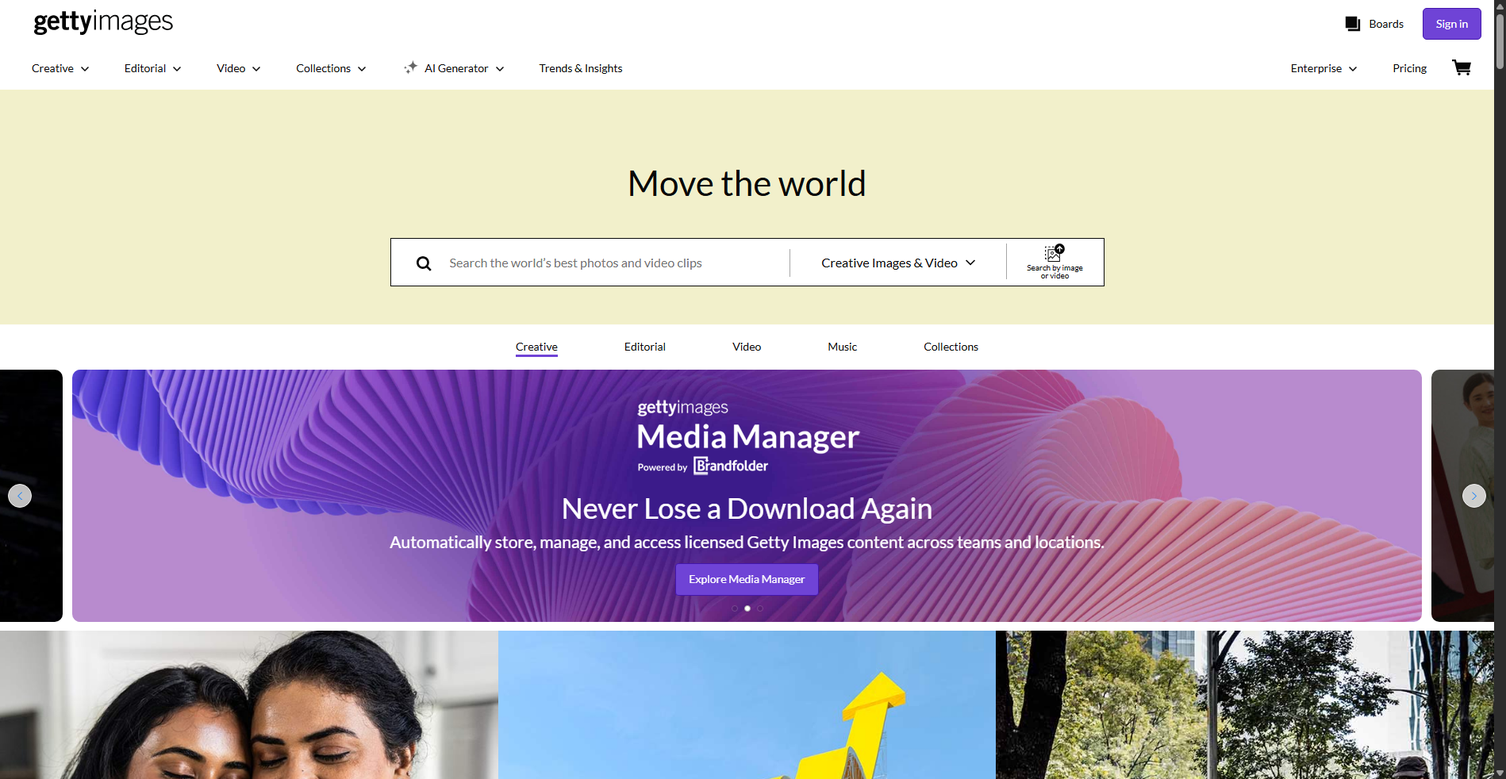general_button: (789, 249, 1007, 277), (809, 298, 980, 326), (809, 342, 980, 370), (809, 442, 980, 470), (821, 370, 980, 398), (821, 398, 980, 426), (821, 470, 980, 498), (821, 498, 980, 526), (1333, 10, 1416, 38), (1144, 179, 1203, 211), (1157, 179, 1216, 211), (1256, 179, 1315, 211), (1014, 179, 1072, 211), (1405, 179, 1463, 211), (8, 484, 32, 508), (1462, 484, 1486, 508), (731, 606, 738, 612), (744, 606, 750, 612), (757, 606, 763, 612)
general_image: (72, 369, 1422, 622), (1431, 369, 1506, 622), (0, 369, 63, 622), (34, 7, 173, 38), (279, 115, 426, 132)
general_input: (444, 249, 789, 275)
general_label: (809, 298, 969, 326), (821, 370, 893, 398), (821, 470, 893, 498), (821, 398, 892, 426), (821, 498, 892, 526), (809, 342, 872, 370), (809, 442, 866, 470)
general_link: (0, 630, 498, 779), (498, 630, 996, 779), (996, 630, 1494, 779), (279, 181, 1481, 209), (279, 176, 1481, 203), (279, 209, 1481, 223), (279, 229, 1481, 243), (1014, 179, 1208, 213), (279, 207, 495, 234), (279, 194, 495, 221), (1160, 140, 1326, 173), (1090, 179, 1249, 213), (638, 144, 797, 177), (1014, 179, 1151, 213), (34, 7, 173, 40), (657, 140, 795, 173), (680, 558, 814, 590), (1014, 179, 1138, 213), (1104, 140, 1230, 173), (1103, 140, 1228, 173), (1308, 140, 1433, 173), (1215, 179, 1336, 213), (521, 144, 642, 177), (521, 183, 632, 217), (611, 144, 723, 177), (389, 55, 520, 83), (1014, 179, 1120, 213), (1126, 179, 1229, 213), (597, 183, 698, 217), (1218, 140, 1322, 173), (1305, 140, 1408, 173), (1014, 140, 1117, 173), (605, 144, 706, 177), (1014, 140, 1115, 173), (799, 144, 899, 177), (848, 144, 947, 177), (861, 144, 960, 177), (693, 144, 792, 177), (729, 144, 828, 177), (1201, 140, 1298, 173), (715, 144, 810, 177), (675, 144, 770, 177), (1014, 179, 1106, 213), (892, 144, 986, 177), (1014, 140, 1108, 173), (1112, 179, 1202, 213), (705, 144, 797, 177), (1355, 140, 1447, 173), (279, 240, 495, 254), (527, 55, 635, 83), (609, 144, 699, 177), (579, 144, 669, 177), (752, 144, 841, 177), (1123, 140, 1211, 173), (521, 144, 608, 177), (1092, 140, 1179, 173), (1328, 140, 1415, 173), (1264, 140, 1349, 173), (521, 183, 603, 217), (584, 144, 668, 177), (1014, 140, 1098, 173), (1080, 140, 1164, 173), (521, 144, 605, 177), (649, 144, 733, 177), (284, 55, 383, 83), (834, 144, 917, 177), (866, 144, 949, 177), (1014, 140, 1096, 173), (797, 144, 879, 177), (521, 144, 603, 177), (1278, 55, 1374, 83), (779, 144, 859, 177), (1014, 179, 1091, 213), (1014, 140, 1093, 173), (521, 144, 598, 177), (816, 144, 892, 177), (521, 144, 596, 177), (1207, 140, 1281, 173), (1090, 140, 1163, 173), (614, 144, 687, 177), (1185, 140, 1258, 173), (19, 55, 105, 83), (112, 55, 198, 83), (1225, 140, 1297, 173), (1014, 140, 1086, 173), (1122, 140, 1194, 173), (1014, 179, 1083, 213), (521, 183, 590, 217), (1306, 140, 1376, 173), (1014, 140, 1084, 173), (899, 144, 966, 177), (1300, 140, 1367, 173), (1235, 140, 1300, 173), (1236, 140, 1301, 173), (727, 144, 791, 177), (586, 140, 650, 173), (602, 144, 665, 177), (854, 144, 917, 177), (823, 144, 886, 177), (1341, 140, 1403, 173), (204, 55, 277, 83), (521, 183, 581, 217), (1233, 140, 1294, 173), (1115, 140, 1176, 173), (906, 144, 967, 177), (1344, 140, 1405, 173), (1140, 140, 1200, 173), (1014, 140, 1073, 173), (713, 144, 772, 177), (521, 140, 580, 173), (1342, 179, 1398, 213), (1170, 140, 1227, 173), (1076, 140, 1133, 173), (1423, 8, 1481, 40), (521, 144, 577, 177), (1014, 140, 1070, 173), (521, 144, 575, 177), (1382, 140, 1435, 173), (1373, 140, 1426, 173), (1100, 140, 1153, 173), (693, 144, 745, 177), (803, 144, 855, 177), (521, 144, 573, 177), (581, 144, 632, 177), (1303, 140, 1354, 173), (801, 140, 852, 173), (1380, 55, 1439, 83), (1169, 140, 1219, 173), (1287, 140, 1337, 173), (1234, 140, 1283, 173), (912, 140, 961, 173), (858, 140, 906, 173), (674, 144, 720, 177), (1289, 140, 1335, 173), (1183, 140, 1228, 173), (804, 144, 848, 177), (776, 144, 816, 177), (1446, 51, 1481, 86), (671, 144, 708, 177), (924, 339, 978, 353), (516, 339, 558, 353), (624, 339, 666, 353), (828, 339, 857, 353), (733, 339, 761, 353)
icon_menu: (0, 282, 254, 331), (0, 148, 254, 193), (0, 237, 254, 282), (0, 193, 254, 237), (0, 181, 254, 215), (0, 215, 254, 249), (0, 249, 254, 283), (0, 283, 254, 317), (0, 317, 254, 351), (0, 351, 254, 385), (0, 148, 254, 181), (0, 385, 254, 418), (204, 99, 407, 133), (204, 133, 407, 167)
icon_search: (1006, 243, 1103, 279), (588, 183, 647, 215), (609, 183, 668, 215), (638, 183, 697, 215), (521, 183, 579, 215), (610, 183, 668, 215), (705, 183, 763, 215), (416, 238, 444, 285)
